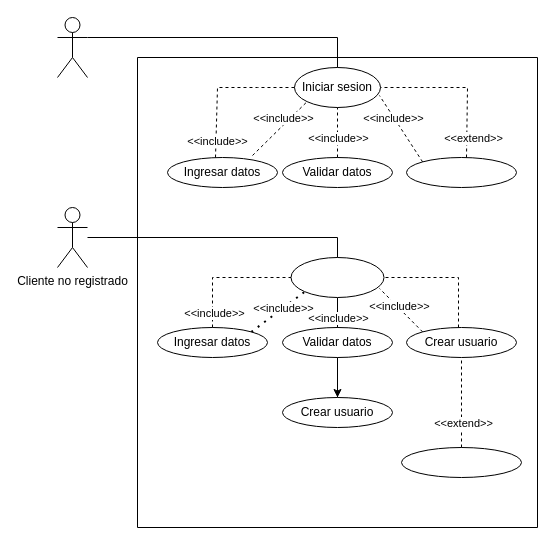
Image size: 555x545. Some labels were removed from this diagram. Here are the shapes that lost their labels. From the top down, the centre of each, then its label:
At point 72,47: "Cliente registrado".
At point 461,172: "Mostrar error".
At point 337,277: "Registrarse".
At point 461,462: "este correo ya existe".
